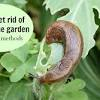slug: (35, 17, 81, 81)
